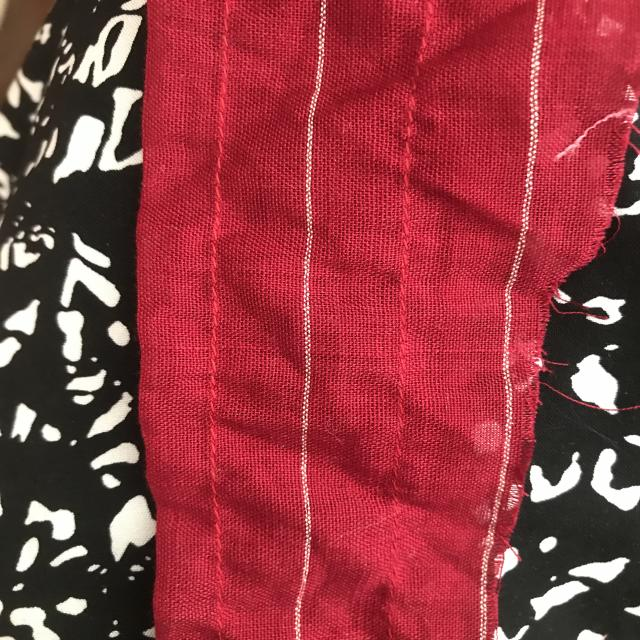good: (193, 438, 234, 594)
